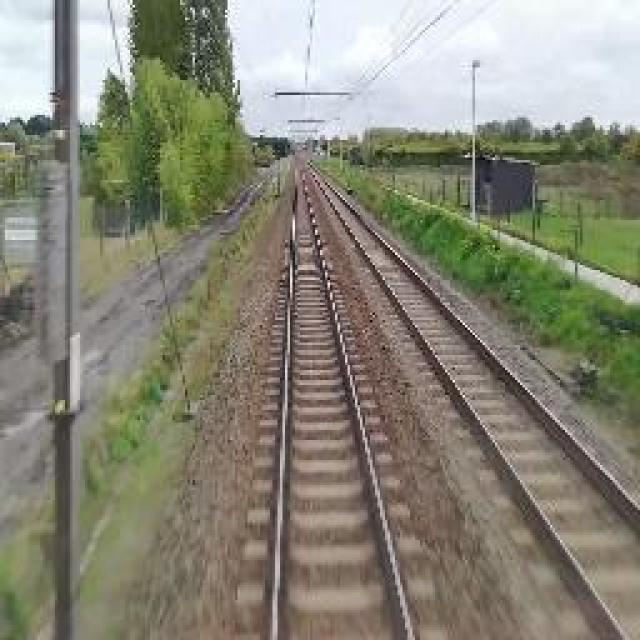rail: (238, 159, 450, 640)
